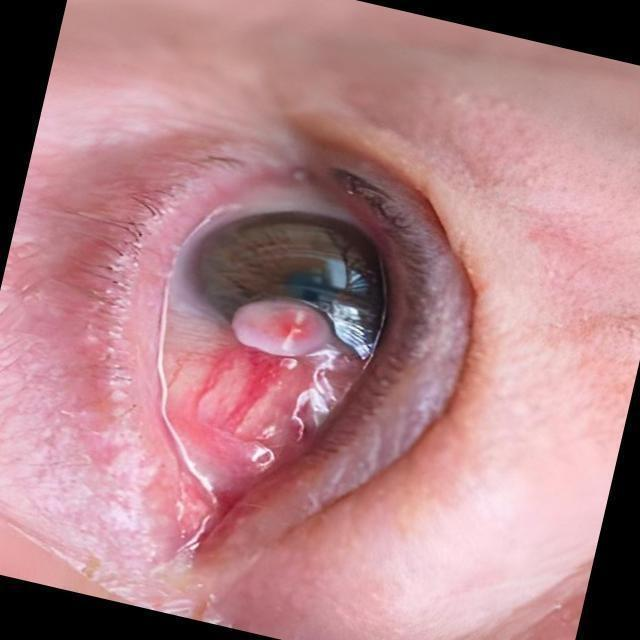Pterygium: (145, 262, 382, 516)
